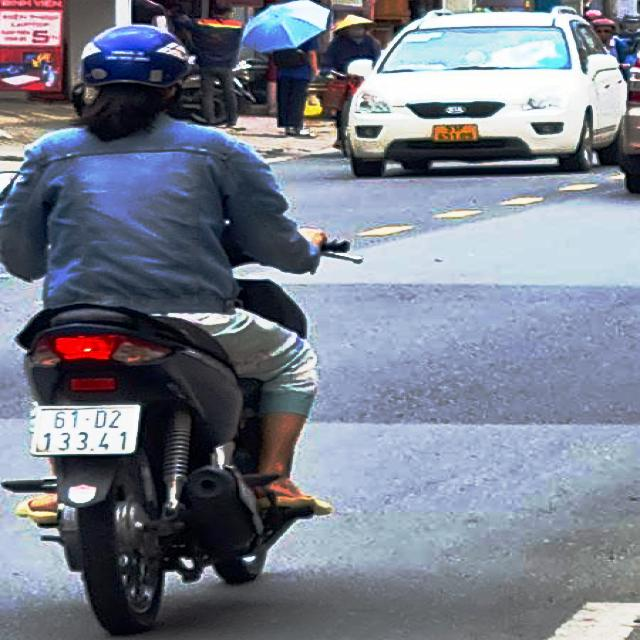license_plate: (33, 407, 139, 455)
